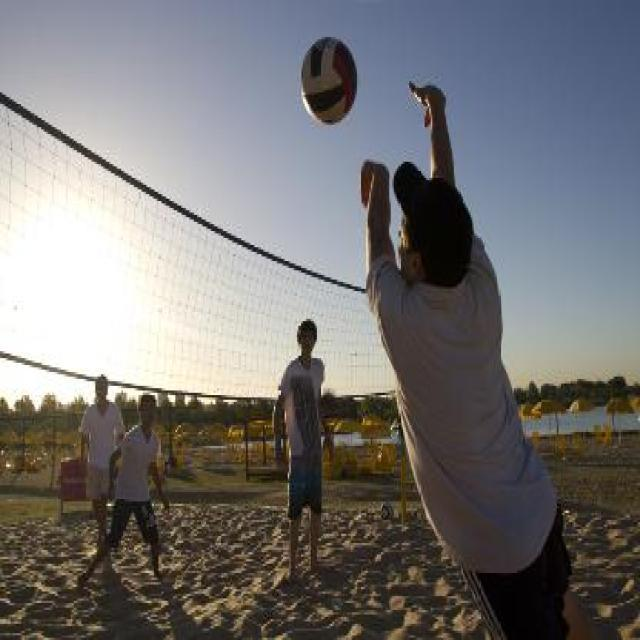volleyball: (301, 36, 357, 126)
